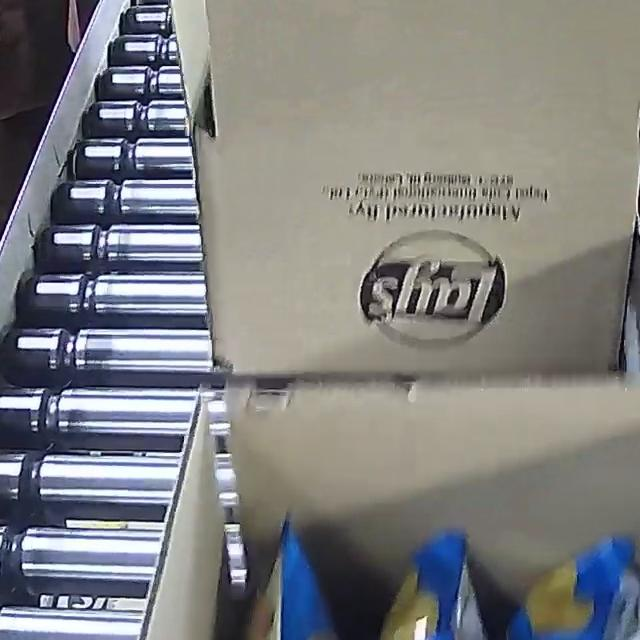paprika: (221, 502, 640, 640)
